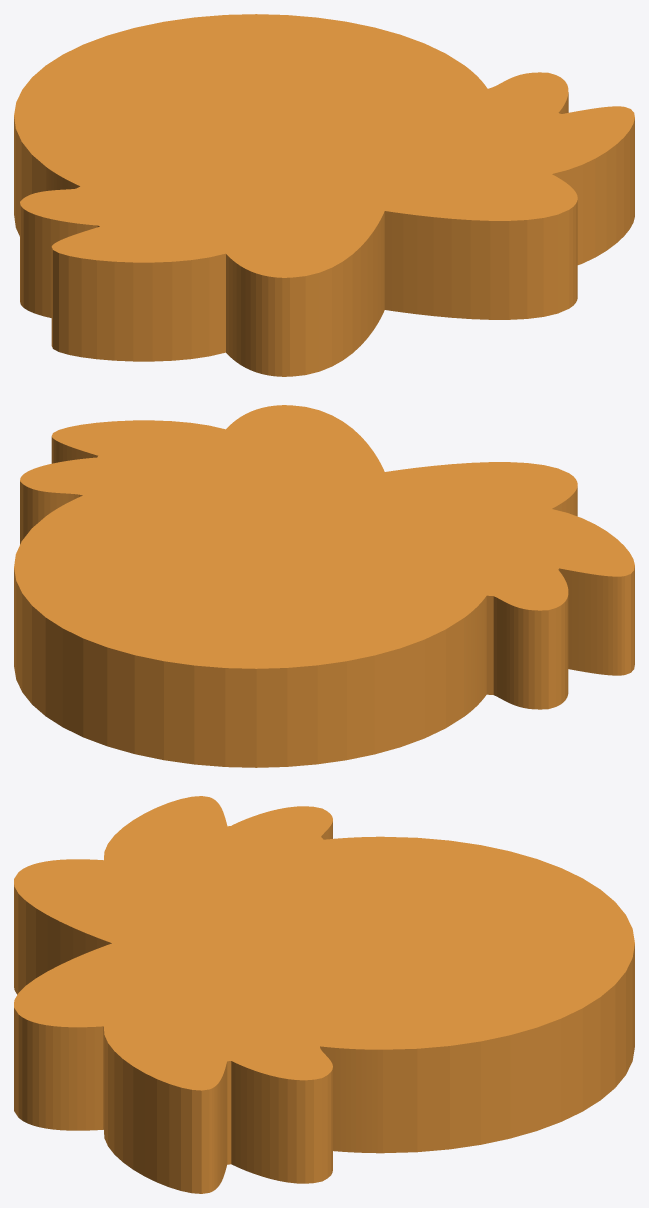
File: OctoBody.fbx
3 renders of one model, top to bottom at view 1: azimuth 30°, elevation 25°; view 2: azimuth 150°, elevation 25°; view 3: azimuth 270°, elevation 25°, orthographic. The views are drawn at different scales.
Parts seen in each view (by area): view 1: Curve; view 2: Curve; view 3: Curve.
Part boxes in pixels (x1,y1,x2,y2): Curve: (14, 14, 634, 376); Curve: (14, 405, 634, 767); Curve: (14, 796, 634, 1193).
Bounding box in the file's own units: 134 × 21.89 × 119.
